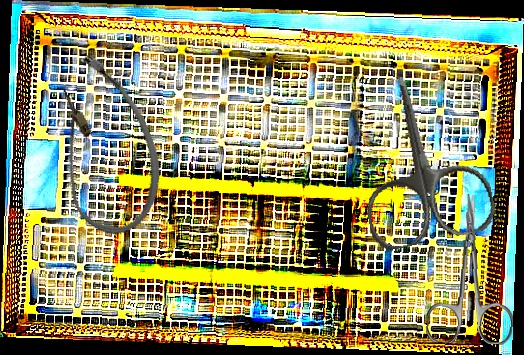Cannula: (25, 44, 181, 246)
Iris Scissors: (341, 63, 499, 254), (425, 193, 518, 345)
